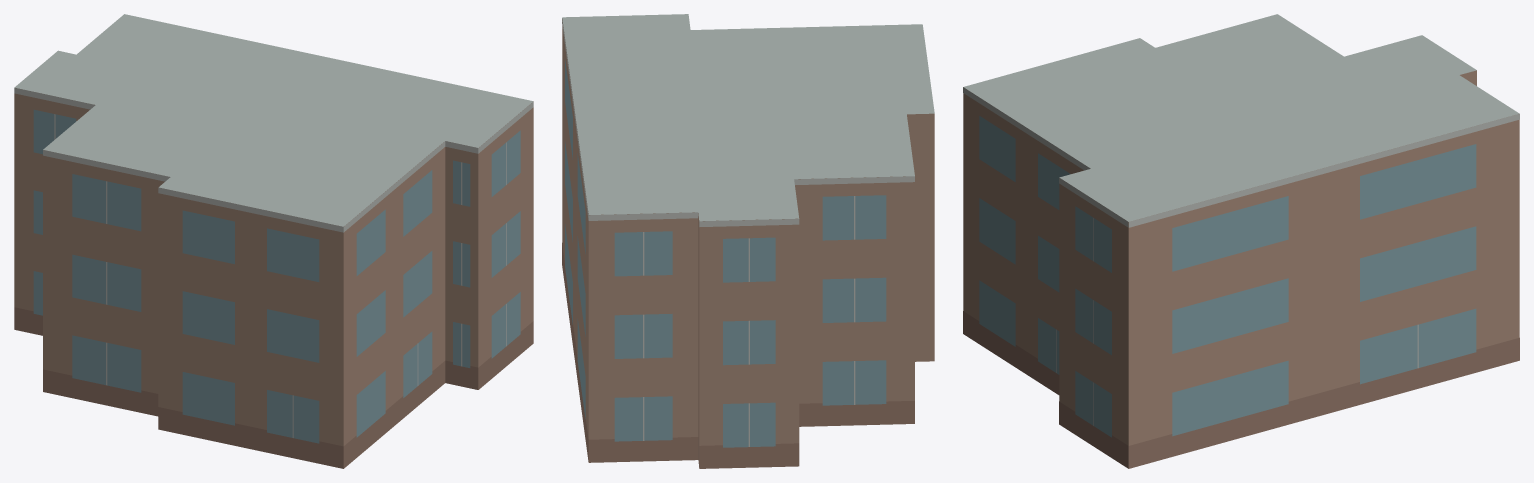
The model's file is survey-upis-32818176.glb.
3 renders of one model, left to right at view 1: azimuth 30°, elevation 25°; view 2: azimuth 150°, elevation 25°; view 3: azimuth 270°, elevation 25°, orthographic. The views are drawn at different scales.
Parts seen in each view (by area): view 1: survey-upis-32818176.tmp; view 2: survey-upis-32818176.tmp; view 3: survey-upis-32818176.tmp.
Part boxes in pixels (x1,y1,x2,y2): survey-upis-32818176.tmp: [14, 14, 533, 468]; survey-upis-32818176.tmp: [562, 14, 934, 468]; survey-upis-32818176.tmp: [963, 14, 1519, 468].
Size of the model in its own units: 18.34 by 10.15 by 20.74.
